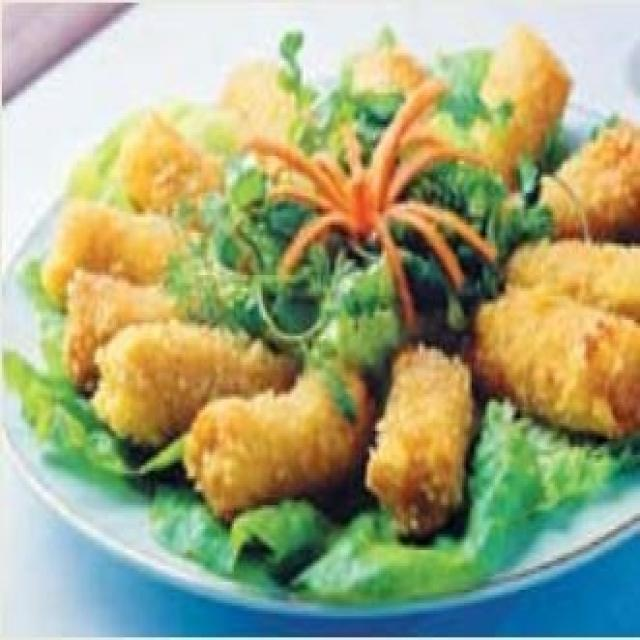炸货点心: (6, 26, 632, 611)
